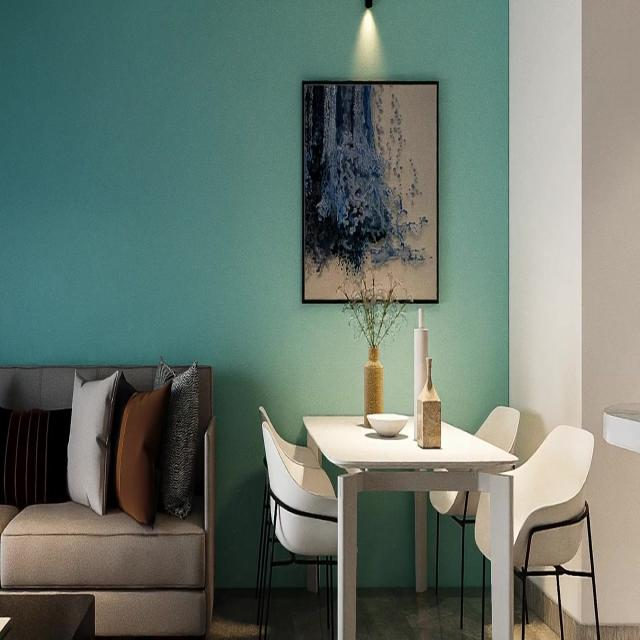obstacle: (0, 360, 216, 638), (302, 412, 519, 638), (474, 423, 600, 639), (428, 404, 520, 630), (260, 418, 338, 638)
